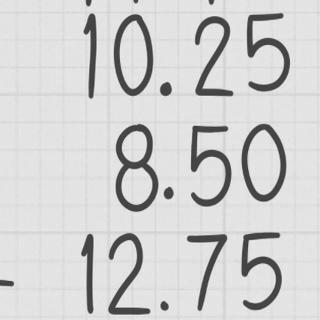.: (157, 77, 178, 101), (156, 293, 176, 316), (161, 181, 176, 204)
0: (238, 119, 289, 206), (108, 12, 155, 98)
1: (78, 12, 102, 102), (76, 229, 99, 316)
2: (105, 230, 151, 319), (192, 14, 239, 99)
5: (243, 11, 295, 97), (185, 121, 233, 213), (237, 229, 289, 313)
7: (186, 228, 230, 314)
8: (113, 119, 159, 215)
